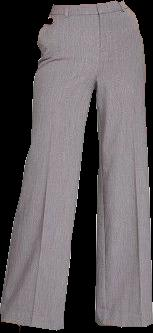Hemline: (0, 318, 63, 330), (94, 321, 152, 328)
Pantleg: (1, 4, 97, 330), (95, 0, 152, 328)
Waistline: (49, 6, 128, 15), (52, 0, 121, 7)
